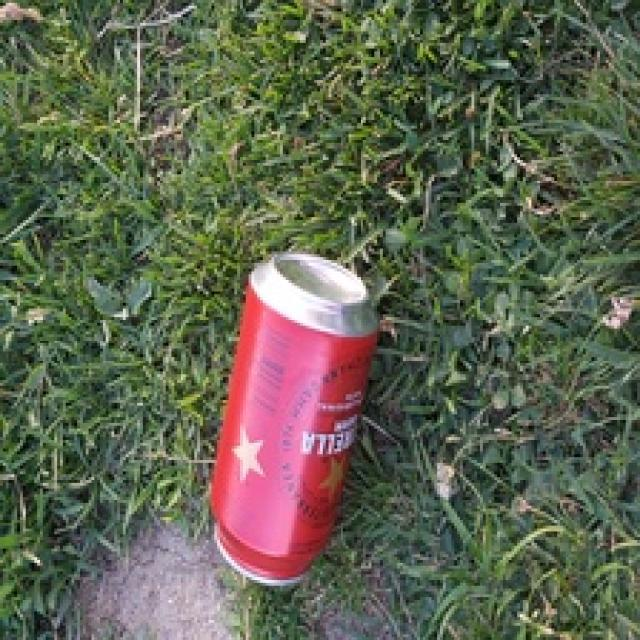recyclable: (208, 249, 374, 592)
